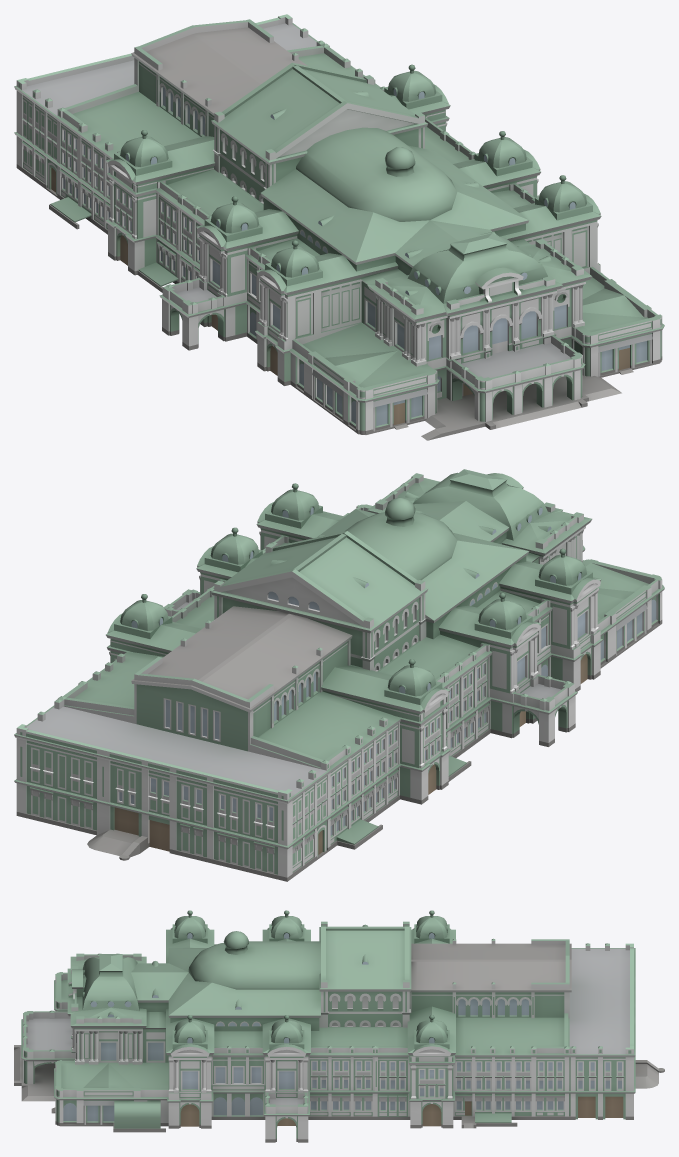
Rendered from academictheater.glb.
The picture shows the model from 3 angles, top to bottom: view 1: azimuth 30°, elevation 25°; view 2: azimuth 150°, elevation 25°; view 3: azimuth 270°, elevation 25°; orthographic projection. The views are drawn at different scales.
Visible parts, largest first — view 1: academictheater; view 2: academictheater; view 3: academictheater.
Boxes of the visible parts, x1,y1,x2,y2 form: academictheater: [14, 14, 664, 440]; academictheater: [14, 469, 664, 881]; academictheater: [14, 910, 664, 1142].
Bounding box in the file's own units: 52.17 × 22.36 × 94.12.
Materials: 1 (1 with a texture image).
